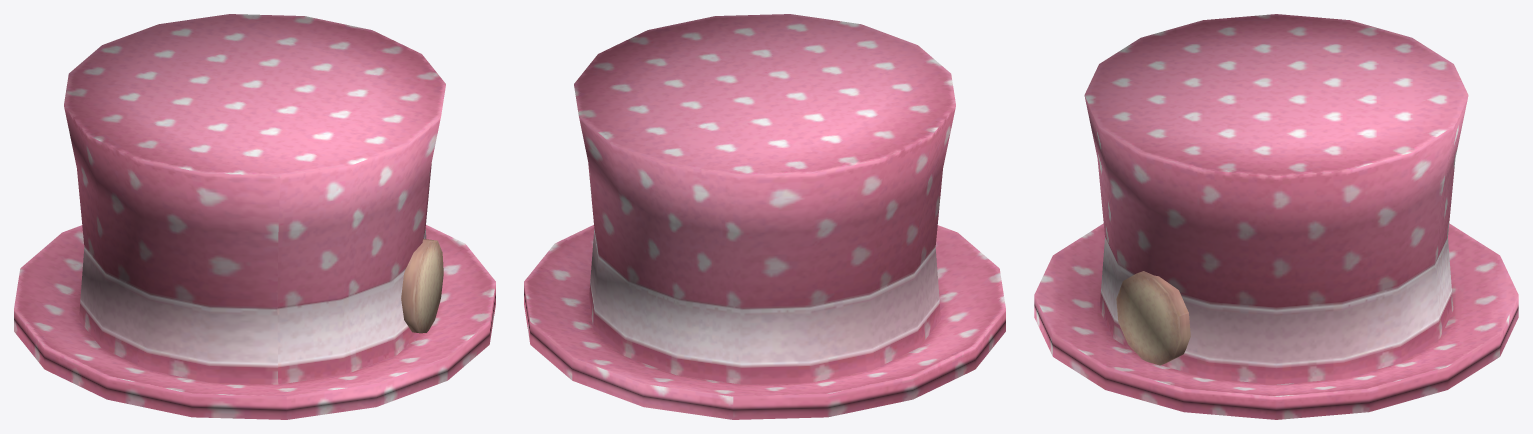
Rendered from M_MinihatA_4.glb.
3 views of the same model, side by side, from view 1: azimuth 30°, elevation 25°; view 2: azimuth 150°, elevation 25°; view 3: azimuth 270°, elevation 25° (orthographic).
Parts seen in each view (by area): view 1: SM_MinihatA; view 2: SM_MinihatA; view 3: SM_MinihatA.
Part boxes in pixels (bbox=[...]): SM_MinihatA: bbox=[14, 14, 495, 419]; SM_MinihatA: bbox=[524, 14, 1005, 419]; SM_MinihatA: bbox=[1034, 14, 1518, 419].
Size of the model in its own units: 0.4534 by 0.2426 by 0.4534.
1 material, 1 textured.
